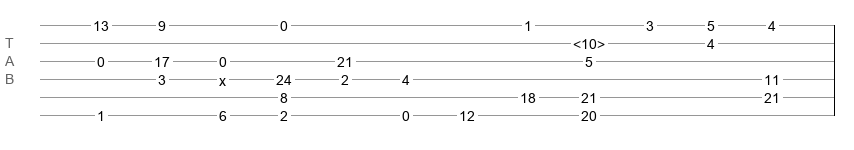0: (97, 54, 105, 64), (219, 54, 227, 64), (280, 18, 288, 28), (402, 108, 410, 118)
1: (97, 108, 105, 118), (524, 18, 532, 28)
11: (764, 72, 780, 82)
12: (459, 108, 475, 118)
13: (93, 18, 109, 28)
17: (154, 54, 170, 64)
18: (520, 90, 536, 100)
2: (280, 108, 288, 118), (341, 72, 349, 82)
20: (581, 108, 597, 118)
21: (337, 54, 353, 64), (581, 90, 597, 100), (764, 90, 780, 100)
24: (276, 72, 292, 82)
3: (158, 72, 166, 82), (646, 18, 654, 28)
4: (402, 72, 410, 82), (707, 36, 715, 46), (768, 18, 776, 28)
5: (585, 54, 593, 64), (707, 18, 715, 28)
6: (219, 108, 227, 118)
8: (280, 90, 288, 100)
9: (158, 18, 166, 28)
harmonic: (573, 36, 605, 46)
x: (219, 73, 226, 81)
